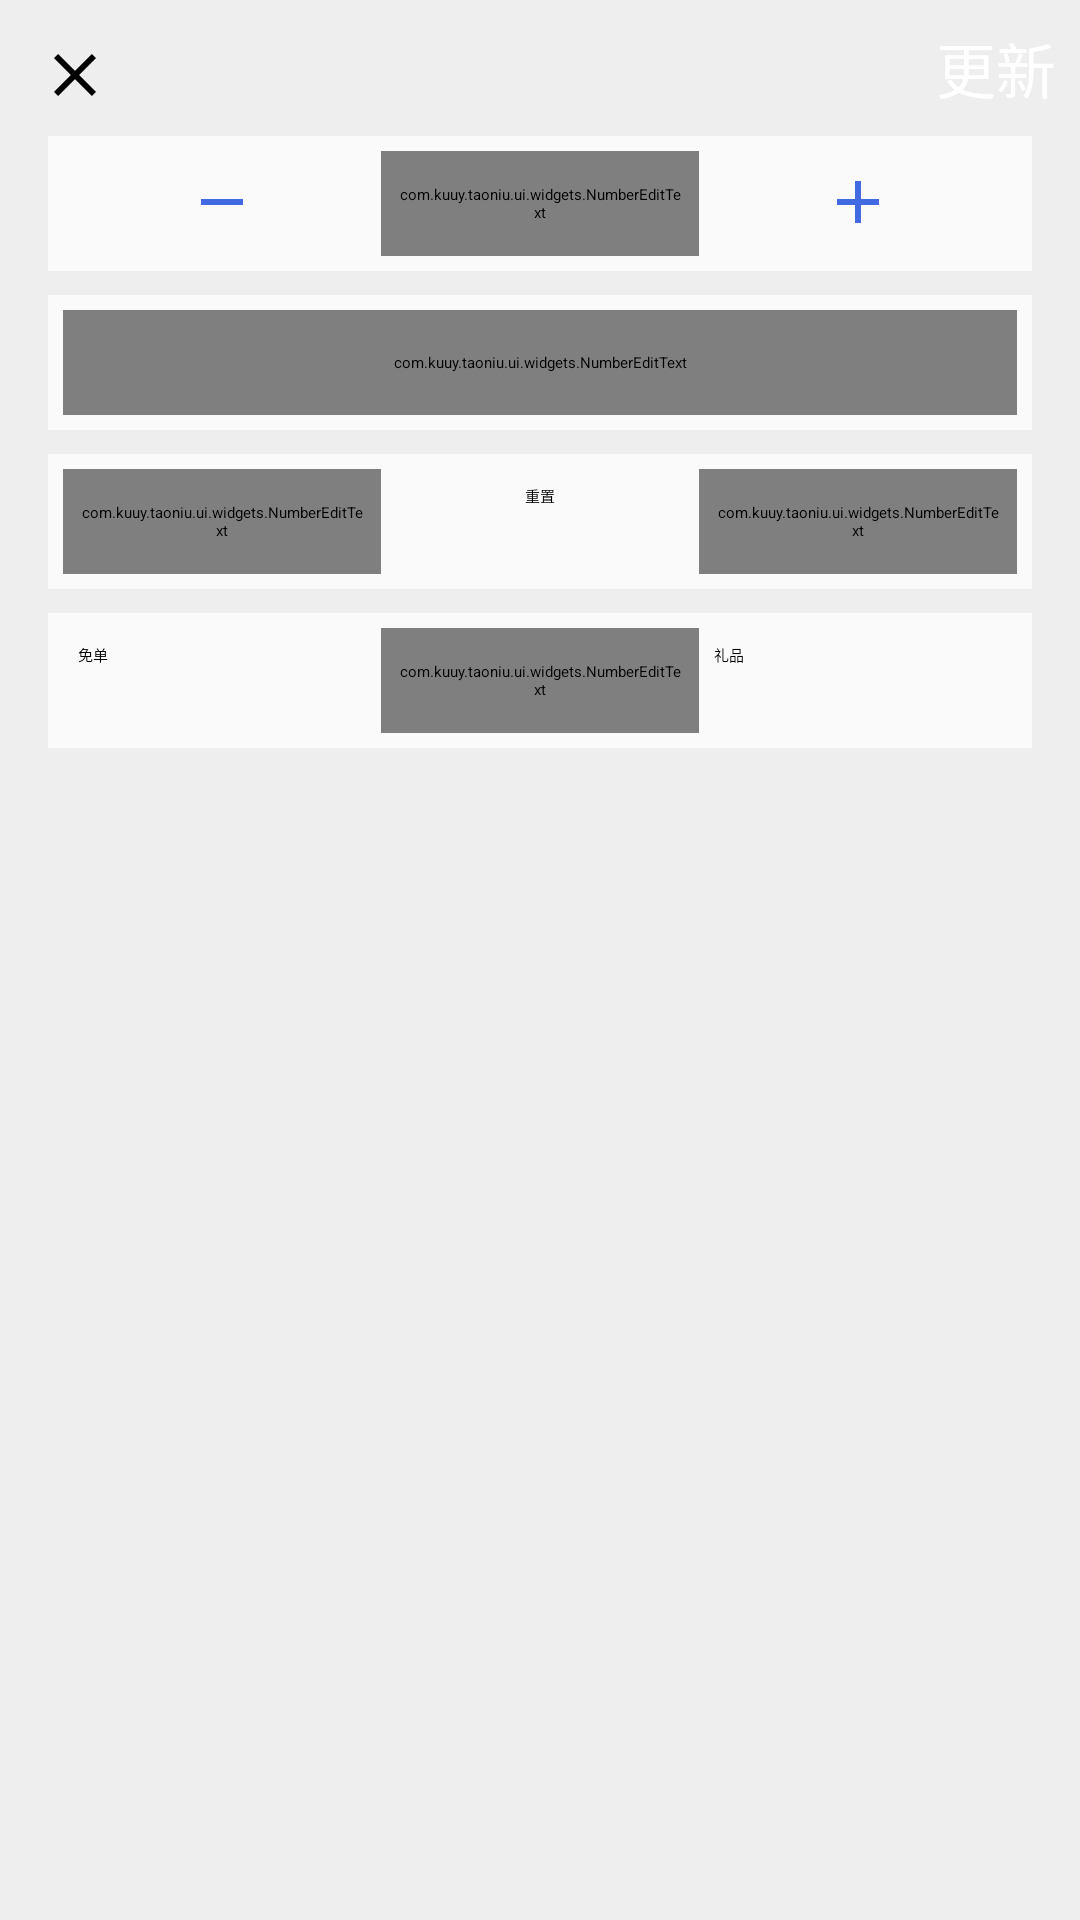

Icon click points for this 1080×1920 phone screenshot, format (x=x, y=y):
add: (x=858, y=202)
close: (x=75, y=75)
